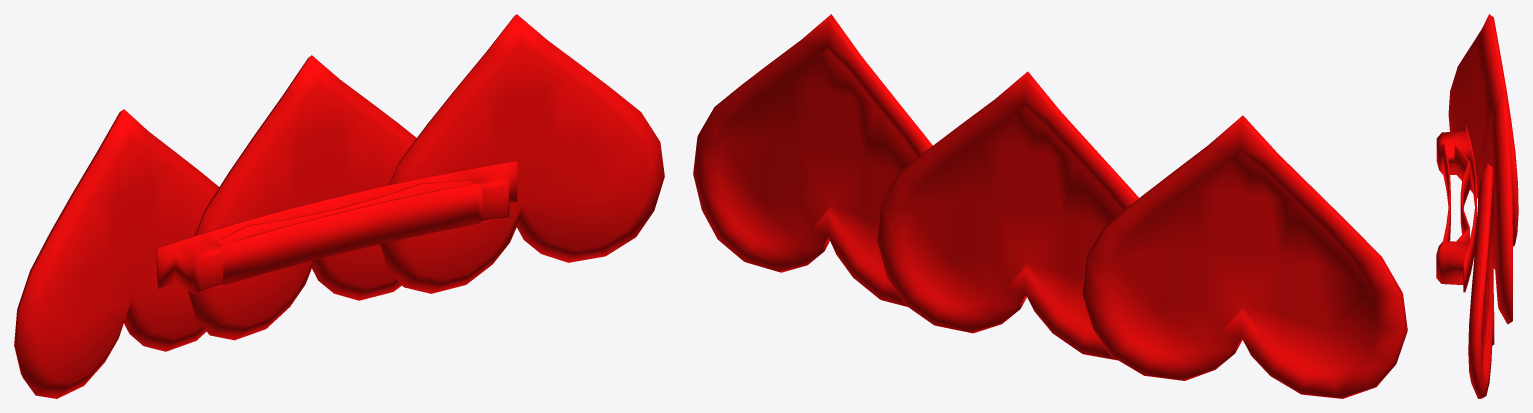
The model's file is kami_valletta_heart.dae.
3 renders of one model, left to right at view 1: azimuth 30°, elevation 25°; view 2: azimuth 150°, elevation 25°; view 3: azimuth 270°, elevation 25°, orthographic. The views are drawn at different scales.
Visible parts, largest first — view 1: o_valletta_heart_0; view 2: o_valletta_heart_0; view 3: o_valletta_heart_0.
Part boxes in pixels (left/top/right/bottom): o_valletta_heart_0: left=14, top=14, right=664, bottom=398; o_valletta_heart_0: left=693, top=14, right=1407, bottom=398; o_valletta_heart_0: left=1436, top=14, right=1518, bottom=398.
Size of the model in its own units: 0.0846 by 0.0116 by 0.0317.
